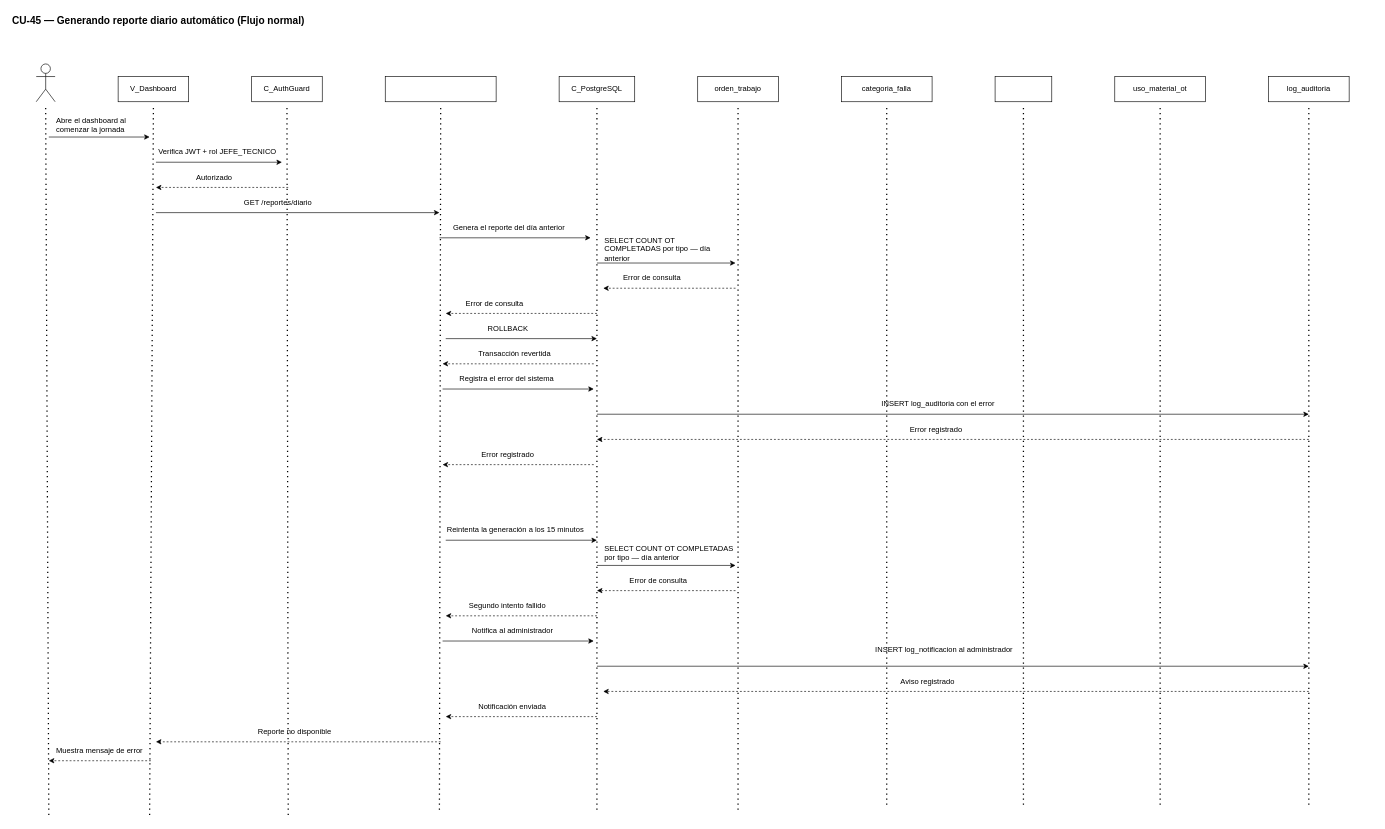
This 1385x829 diagram has some shape labels left out. The shapes that lost their labels are listed below. From the top down, each one's box as (x1, y1, x2, y2) in pixels, then its label:
(36, 63, 55, 102): Jefe Técnico
(385, 76, 496, 102): C_ReporteController
(994, 76, 1052, 102): usuario
